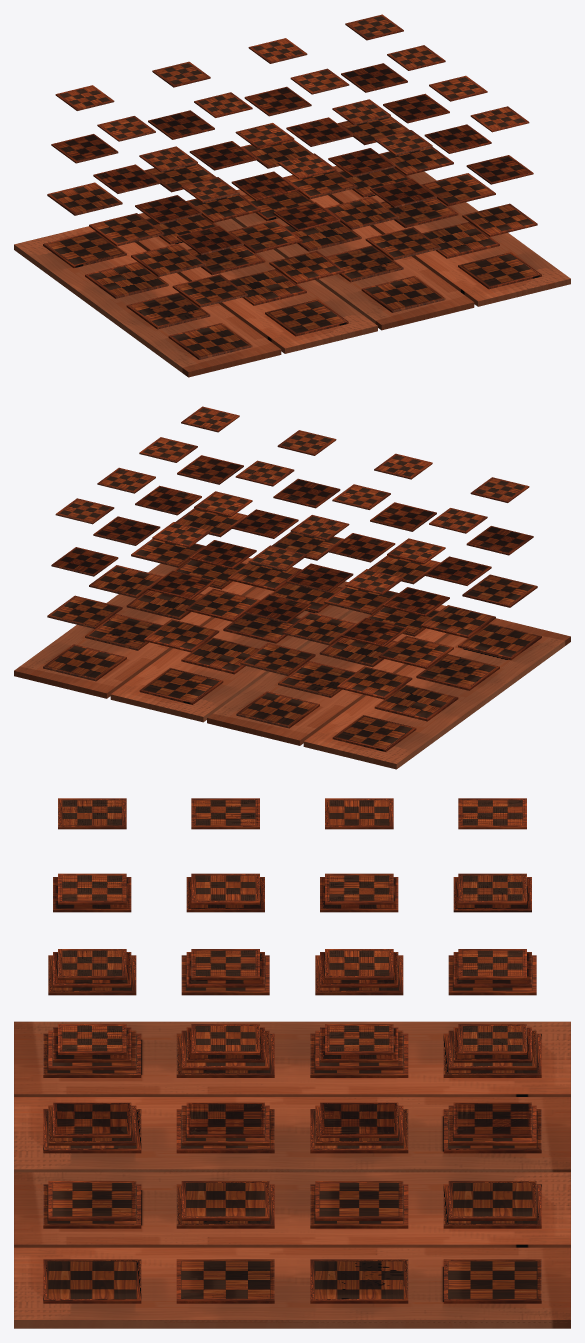
File: 5D-Chess-tall.fbx
The picture shows the model from 3 angles, top to bottom: view 1: azimuth 30°, elevation 25°; view 2: azimuth 150°, elevation 25°; view 3: azimuth 270°, elevation 25°; orthographic projection. The views are drawn at different scales.
Parts seen in each view (by area): view 1: ChessBoard_LP; view 2: ChessBoard_LP; view 3: ChessBoard_LP.
Boxes of the visible parts, box(x1,y1,x2,y2) form: ChessBoard_LP: box(14, 14, 570, 377); ChessBoard_LP: box(14, 406, 570, 769); ChessBoard_LP: box(14, 798, 570, 1328).
Size of the model in its own units: 793 by 315 by 626.
